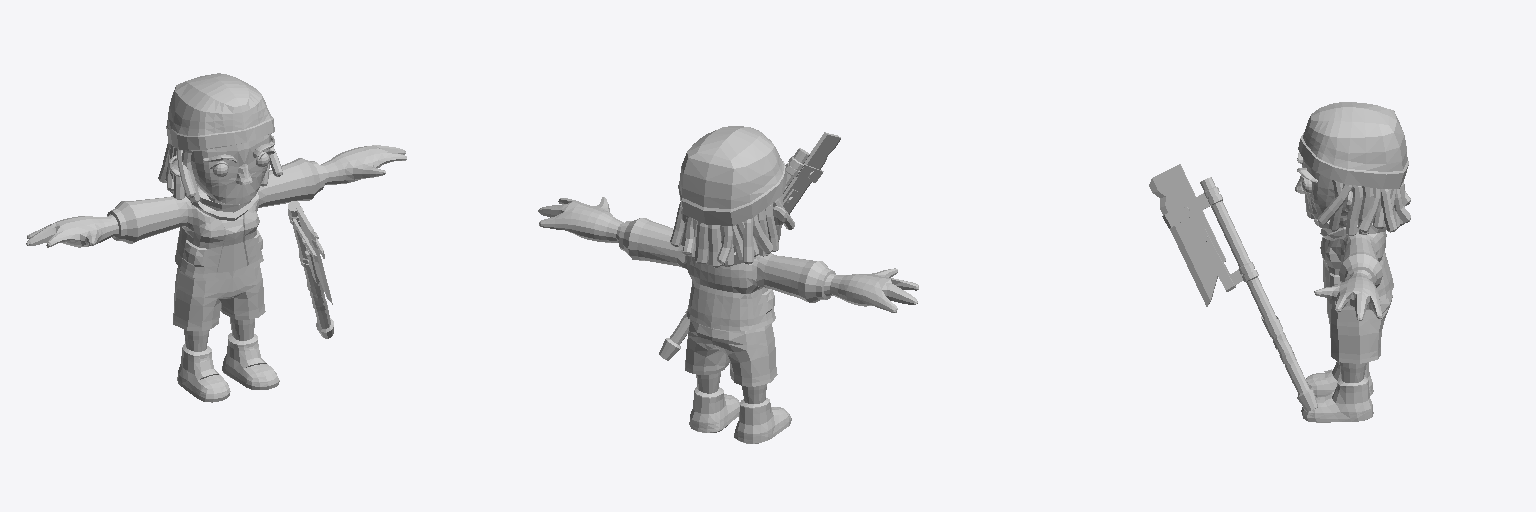
The model's file is Characters Sam.obj.
3 renders of one model, left to right at view 1: azimuth 30°, elevation 25°; view 2: azimuth 150°, elevation 25°; view 3: azimuth 270°, elevation 25°, orthographic.
Parts seen in each view (by area): view 1: obj2, obj1; view 2: obj2, obj1; view 3: obj2, obj1.
Part boxes in pixels (x1,y1,x2,y2): obj2: (26, 73, 406, 402); obj1: (288, 201, 333, 338); obj2: (538, 126, 918, 443); obj1: (659, 132, 840, 360); obj2: (1295, 102, 1410, 422); obj1: (1149, 164, 1317, 411).
Size of the model in its own units: 2.04 by 1.53 by 1.22.